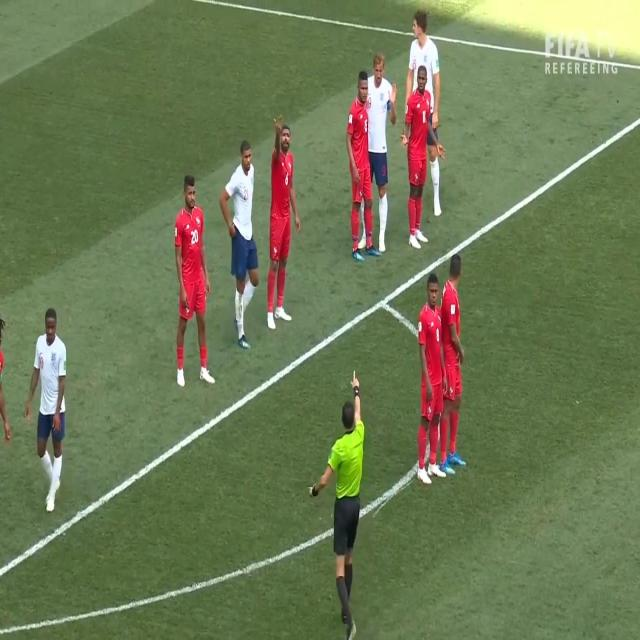player: (174, 176, 217, 388), (220, 137, 262, 352), (267, 120, 303, 326), (405, 63, 445, 245), (32, 310, 67, 509), (416, 274, 445, 486), (443, 252, 468, 480), (348, 67, 374, 259), (374, 45, 398, 252), (403, 9, 444, 57)
